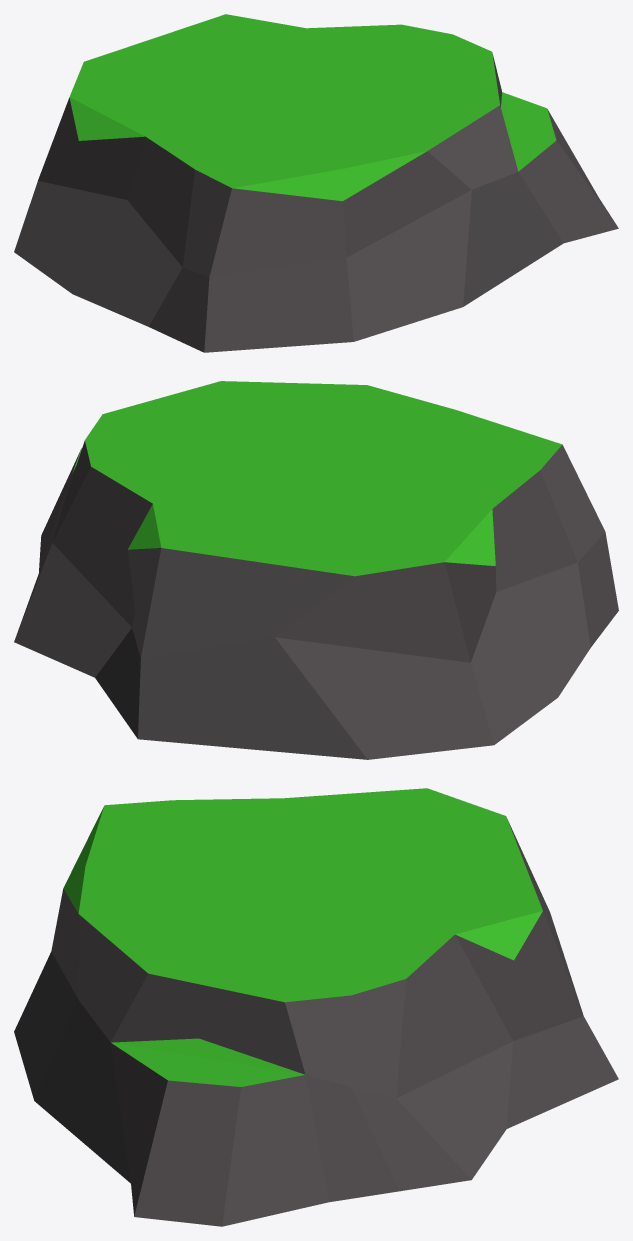
File: mountain_s3.fbx
3 renders of one model, top to bottom at view 1: azimuth 30°, elevation 25°; view 2: azimuth 150°, elevation 25°; view 3: azimuth 270°, elevation 25°, orthographic. The views are drawn at different scales.
Parts seen in each view (by area): view 1: Circle.013; view 2: Circle.013; view 3: Circle.013.
Part boxes in pixels (x1,y1,x2,y2): Circle.013: (14, 14, 618, 352); Circle.013: (14, 381, 618, 759); Circle.013: (14, 788, 618, 1226).
Size of the model in its own units: 1537 by 436 by 1351.
